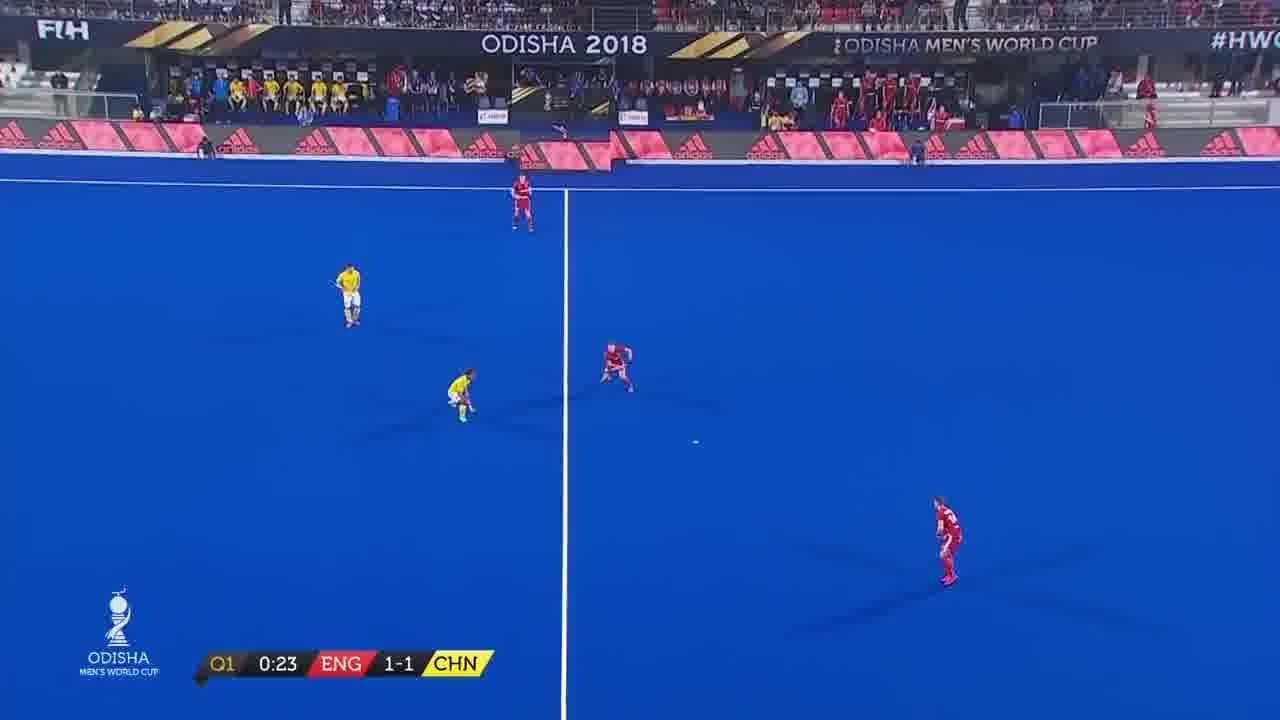ball: (688, 437, 708, 450)
